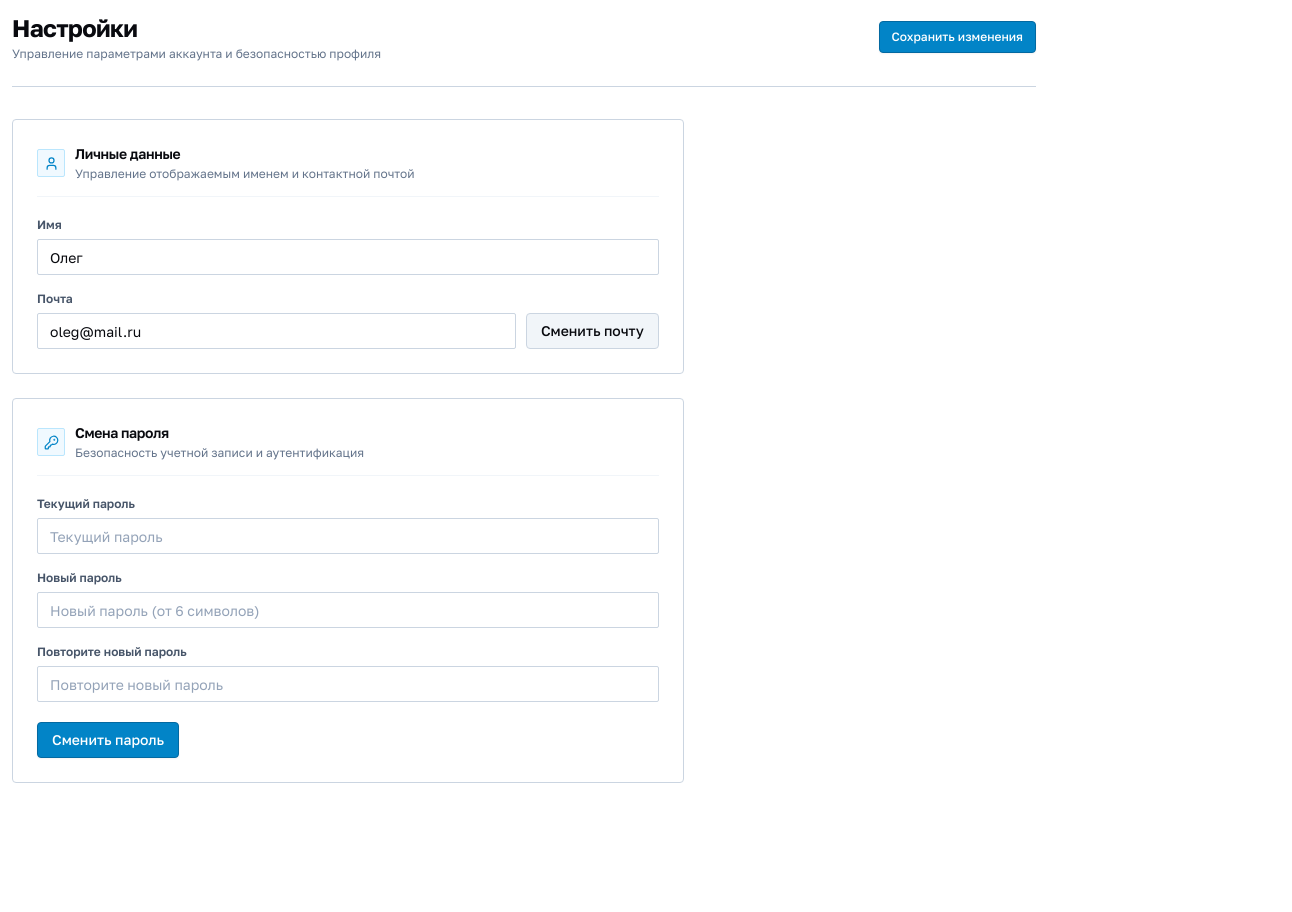
ProfileSettingsPage › submits password change successfully
The width and height of the screenshot is (1292, 912).
Type "oldpass123" into the password field labelled "Текущий пароль".
click(348, 536); type("oldpass123")  # box 37,518 -> 659,554
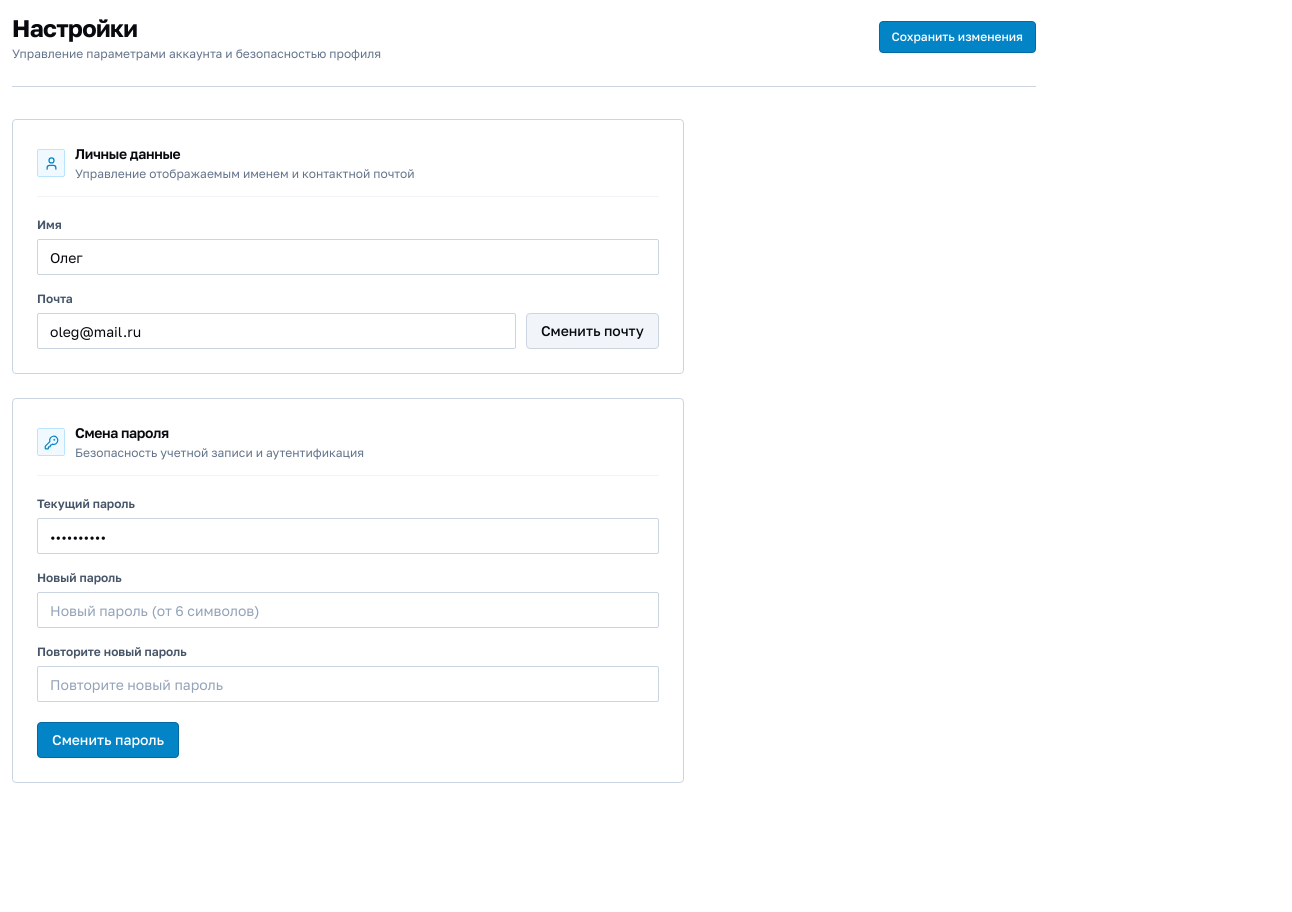
Type "newpass123" into the password field labelled "Новый пароль".
click(348, 610); type("newpass123")  # box 37,592 -> 659,628
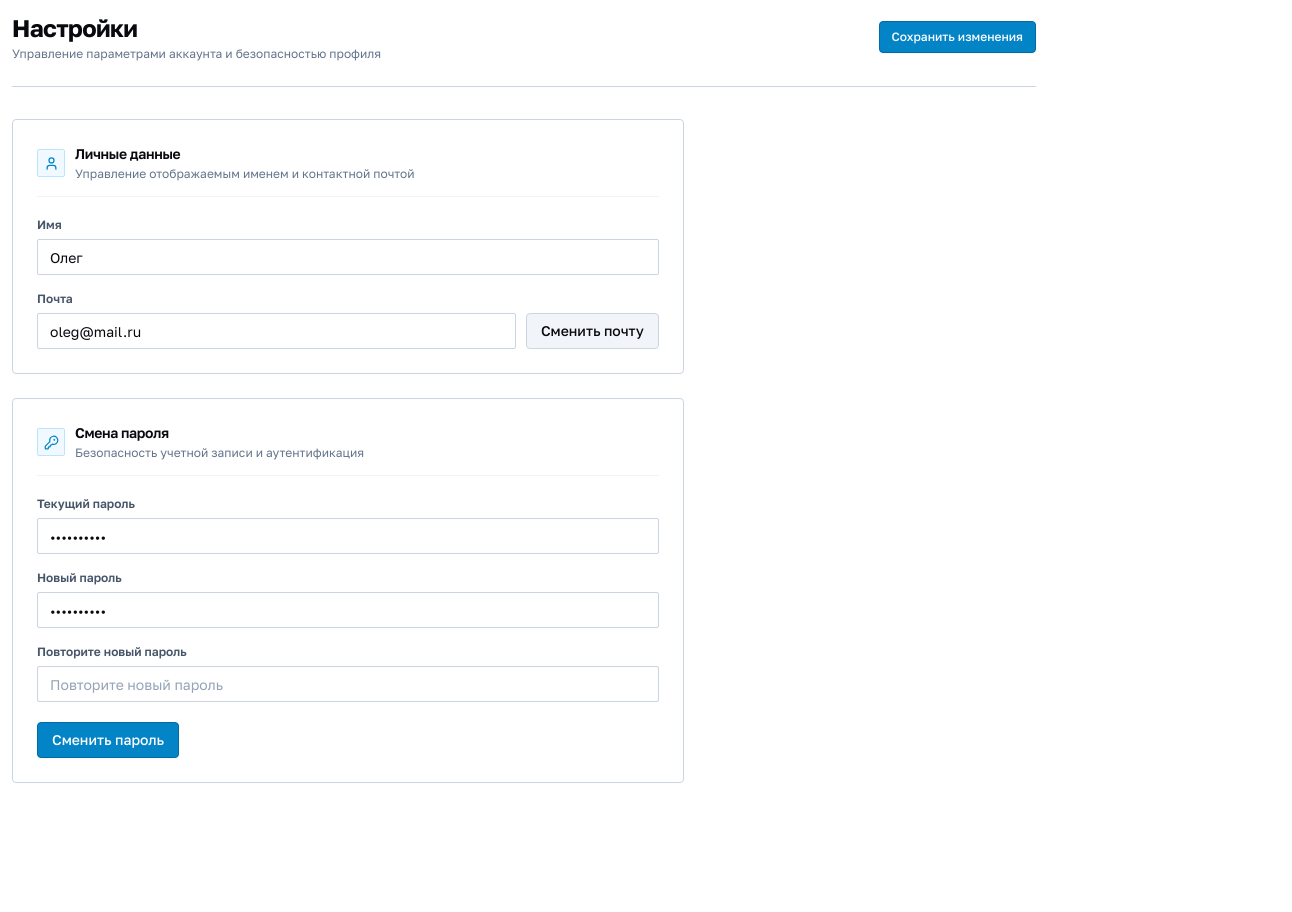
Type "newpass123" into the password field labelled "Повторите новый пароль".
click(348, 684); type("newpass123")  # box 37,666 -> 659,702
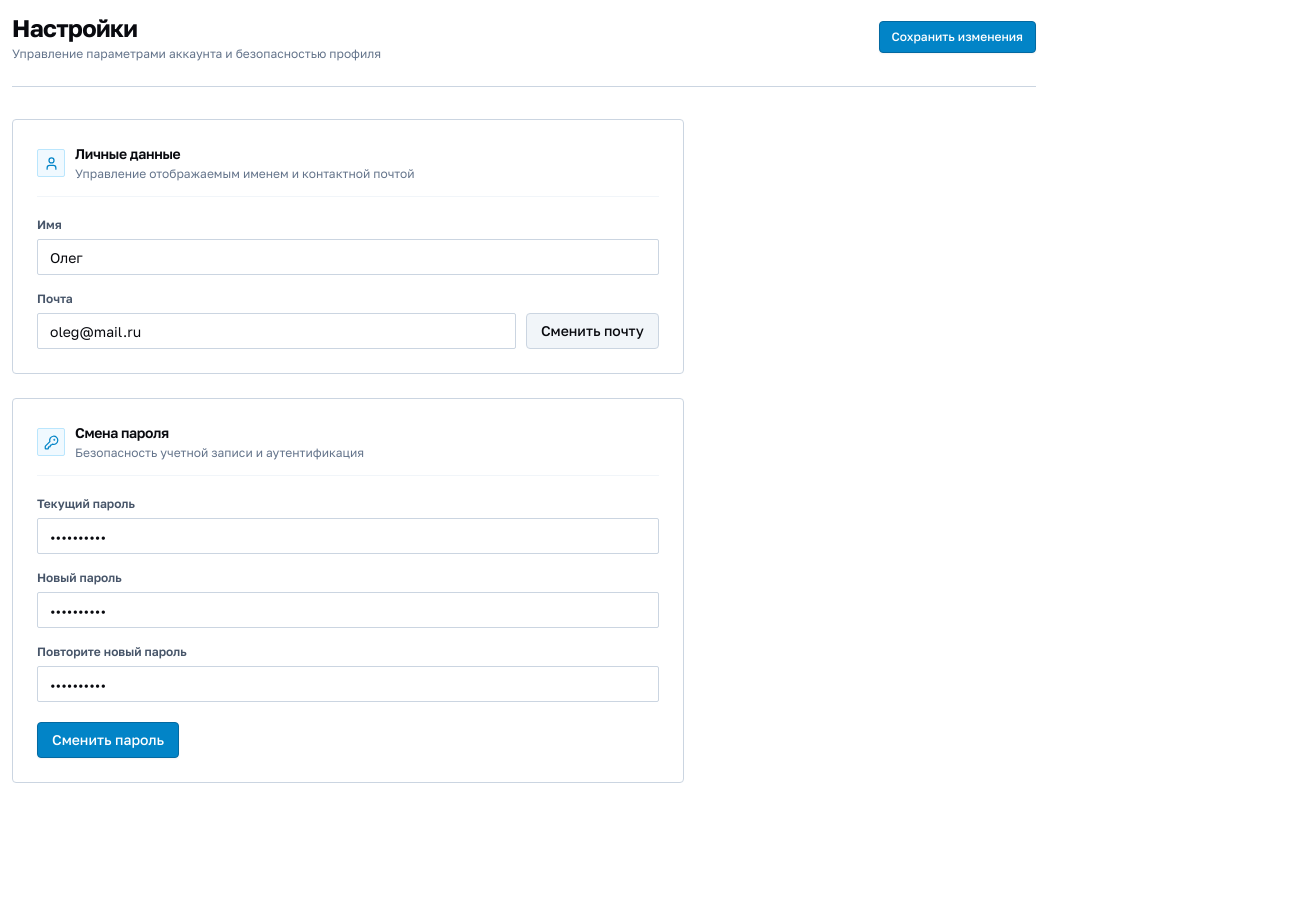
Click the button "Сменить пароль".
click(108, 740)  # box 37,722 -> 179,758
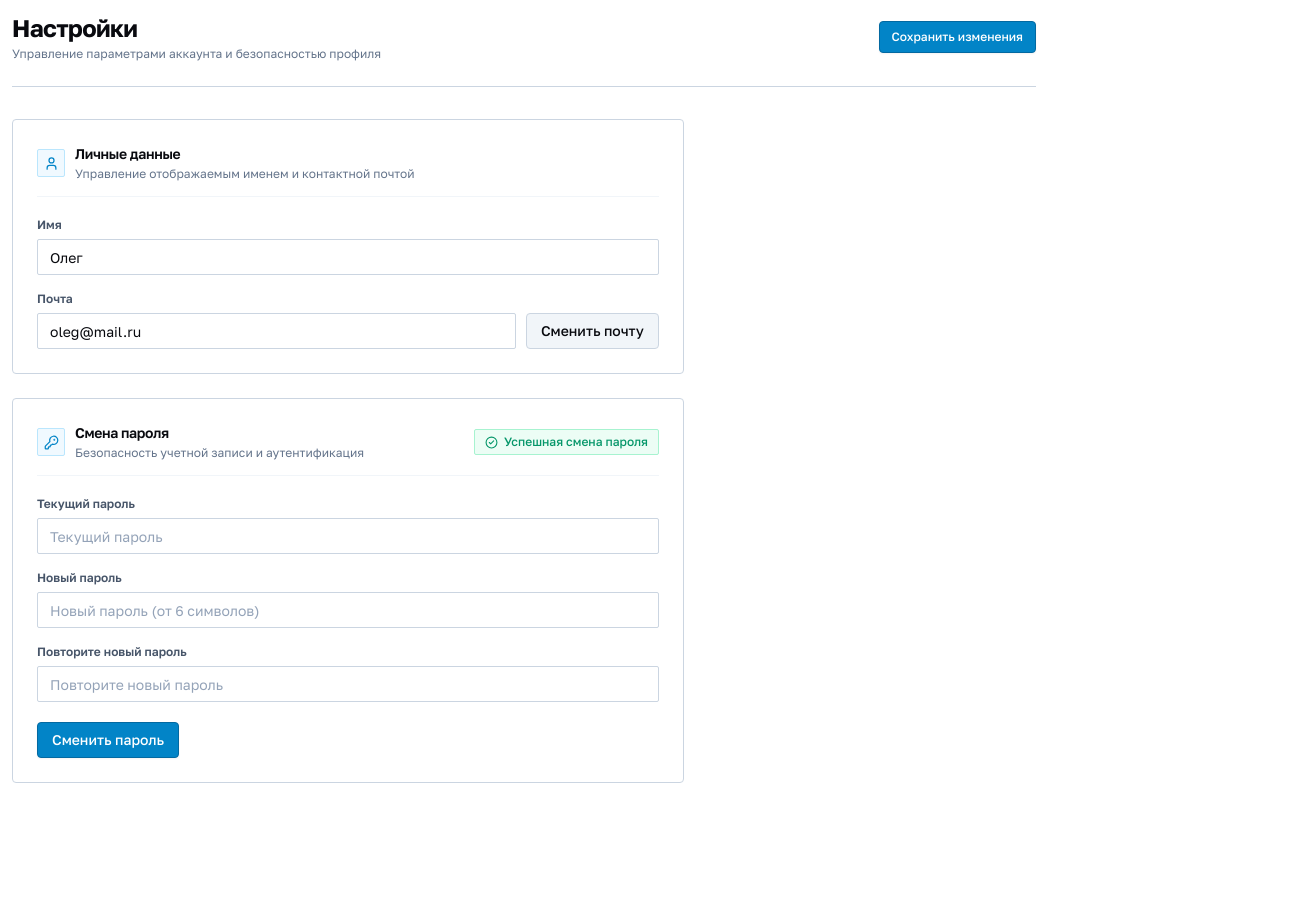
Result: the text "Успешная смена пароля" is shown at 504,434 -> 648,450
